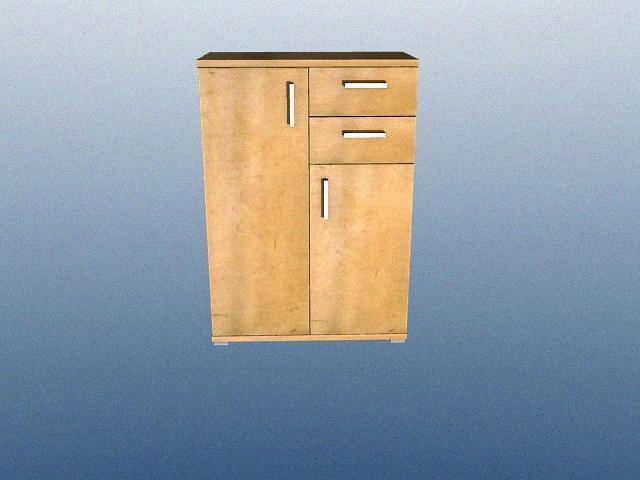cabinet_door: (205, 67, 308, 336), (308, 164, 411, 334), (308, 66, 417, 116), (308, 117, 415, 164)
handle: (332, 125, 400, 143), (340, 76, 391, 90), (285, 79, 298, 129), (317, 175, 329, 221)
